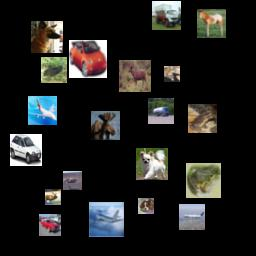airplane: (89, 202, 124, 237), (28, 96, 57, 125), (179, 204, 205, 230)
automobile: (69, 40, 107, 78), (10, 134, 42, 166), (39, 214, 61, 236)
bird: (41, 57, 67, 83), (63, 171, 82, 190)
cat: (164, 66, 180, 82)
deer: (119, 60, 151, 92), (91, 111, 120, 140), (45, 189, 61, 205)
dog: (136, 148, 168, 180), (31, 21, 63, 53), (138, 198, 154, 214)
frog: (186, 163, 221, 198), (188, 104, 217, 133)
truck: (152, 1, 181, 30), (148, 98, 174, 124)
